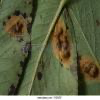Apple rust leaf: (6, 6, 99, 90)
